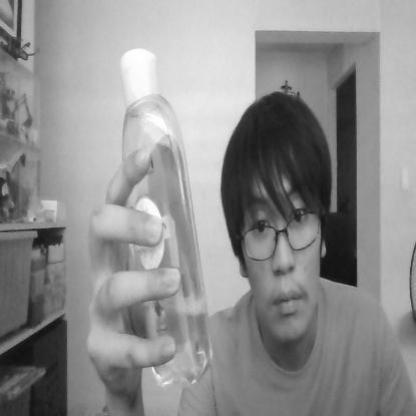Plastic Bottle: (114, 45, 218, 393)
